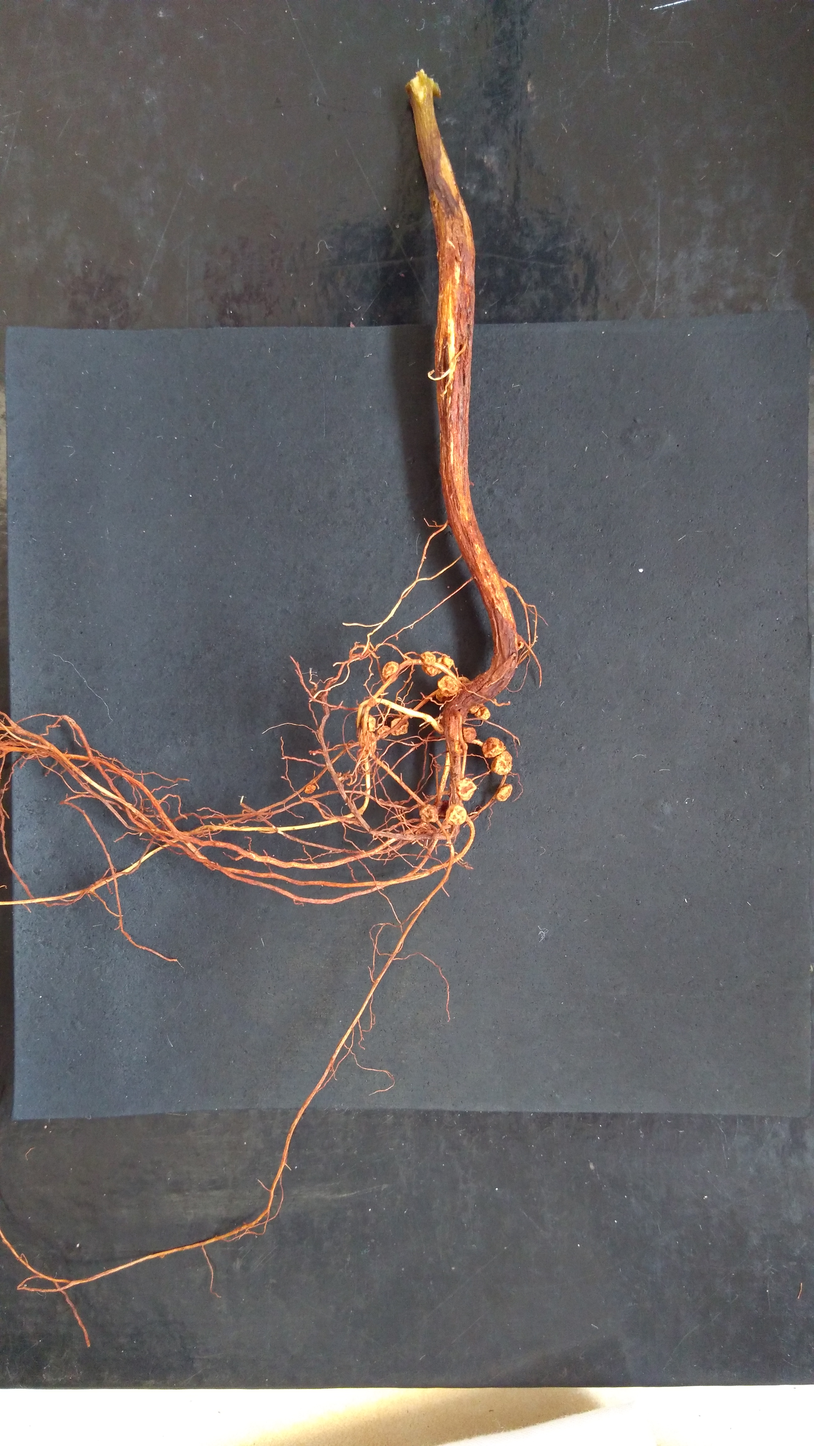nodule: (480, 735, 508, 760), (489, 748, 514, 776), (454, 776, 478, 803), (436, 674, 460, 698), (418, 803, 441, 825), (447, 804, 468, 828), (494, 781, 515, 803), (434, 654, 455, 675), (380, 660, 400, 680), (361, 731, 378, 754), (390, 716, 409, 736), (360, 714, 376, 732), (419, 651, 437, 666), (420, 663, 438, 678), (462, 726, 477, 743), (475, 707, 491, 720), (377, 725, 391, 739), (468, 703, 484, 714), (303, 784, 317, 795)
